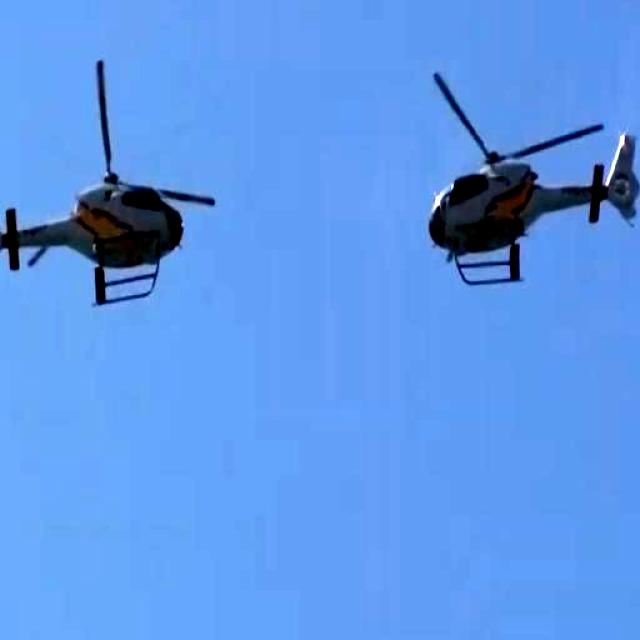drone: (0, 66, 216, 320)
